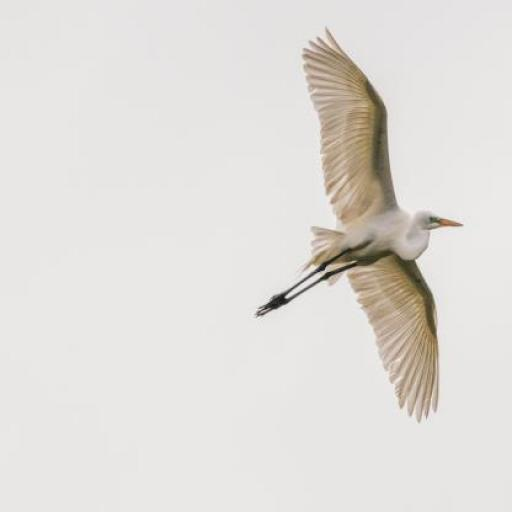bird: (256, 26, 466, 423)
